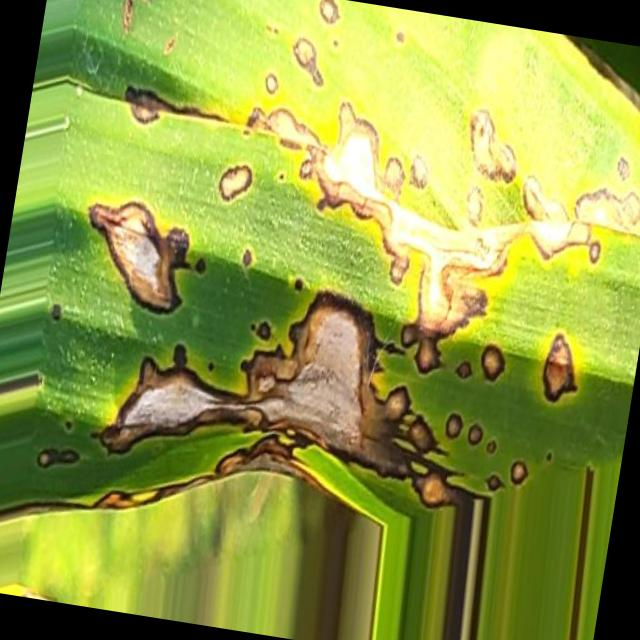Banana_Black_Sigatoka: (50, 0, 632, 537)
